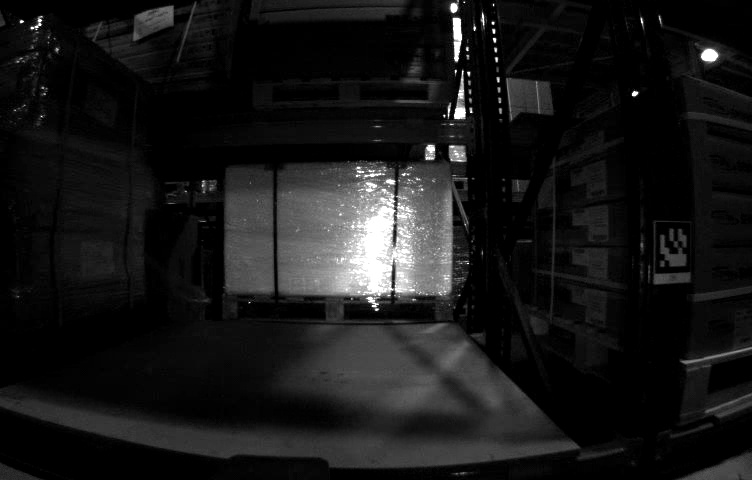True Barcode: (734, 307, 752, 344)
